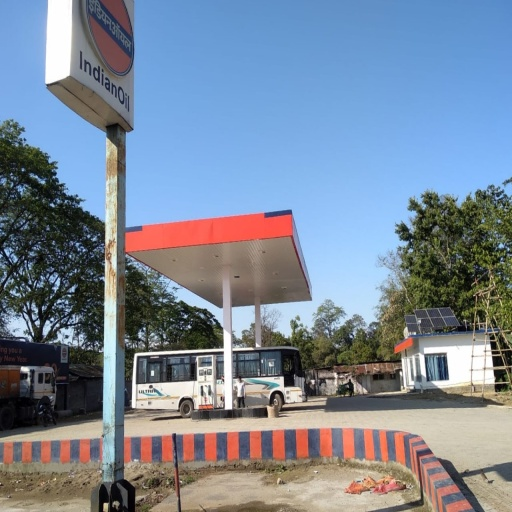roof: (127, 207, 314, 311)
